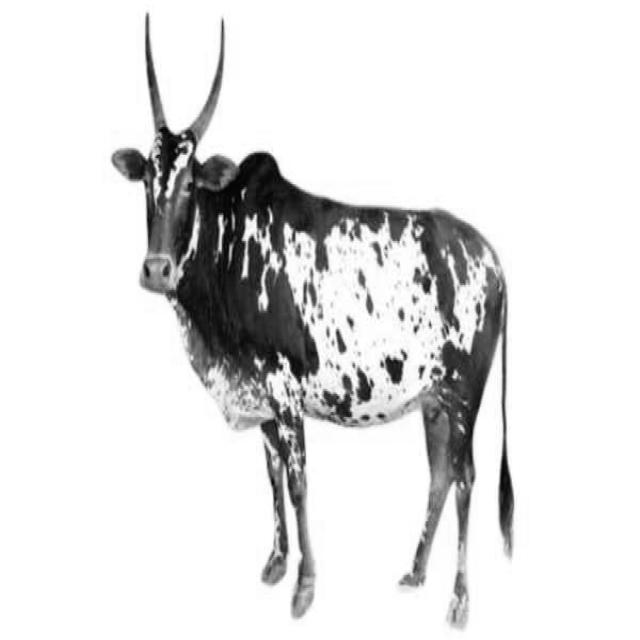Cow: (110, 8, 517, 629)
